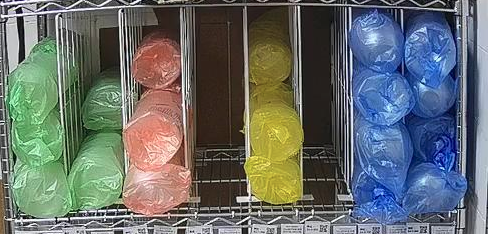blue: (355, 71, 410, 123), (352, 14, 402, 69), (404, 26, 455, 78), (357, 125, 408, 171), (407, 167, 455, 212), (410, 76, 455, 117)
green: (13, 163, 68, 217), (9, 112, 63, 163), (69, 162, 122, 209), (7, 66, 54, 117), (81, 84, 124, 130)
red: (124, 112, 181, 166), (124, 165, 184, 213), (131, 40, 181, 88)
yellow: (250, 110, 301, 159), (250, 159, 301, 203), (248, 41, 291, 85)
